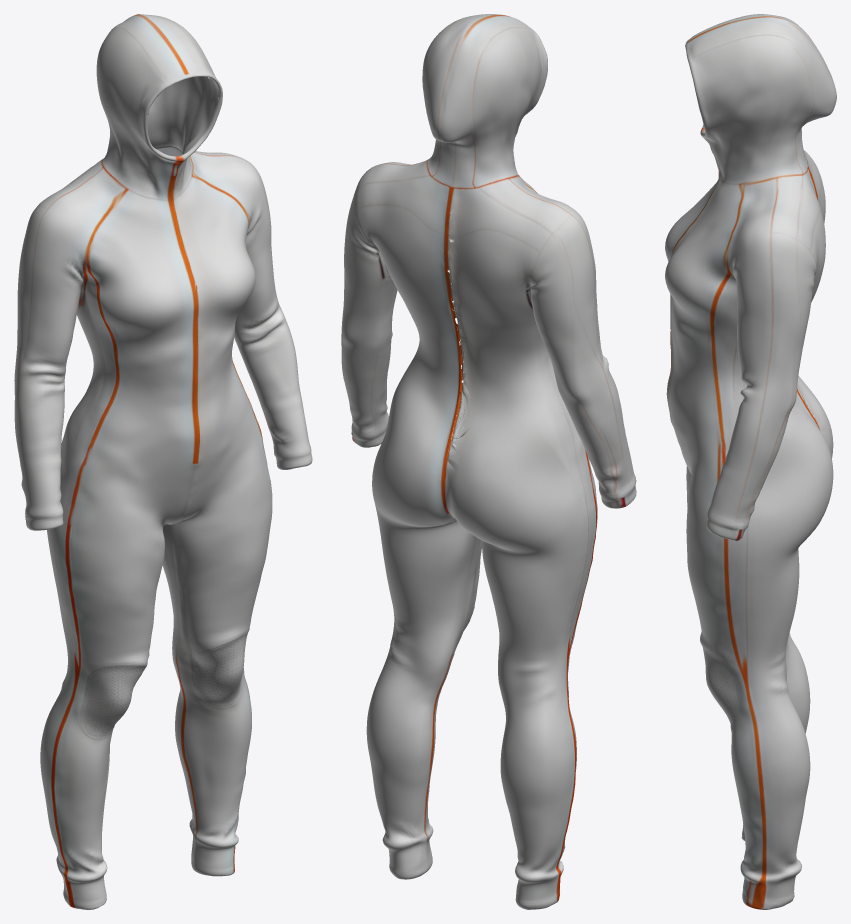
File: wetsuit.glb
The picture shows the model from 3 angles, left to right: view 1: azimuth 30°, elevation 25°; view 2: azimuth 150°, elevation 25°; view 3: azimuth 270°, elevation 25°; orthographic projection.
Visible parts, largest first — view 1: tripo_node_316ecb22; view 2: tripo_node_316ecb22; view 3: tripo_node_316ecb22.
Part boxes in pixels (x1,y1,x2,y2): tripo_node_316ecb22: (14, 14, 312, 909); tripo_node_316ecb22: (341, 14, 636, 909); tripo_node_316ecb22: (665, 14, 836, 909).
Bounding box in the file's own units: 32.94 × 97.9 × 17.84.
1 material, 1 textured.
